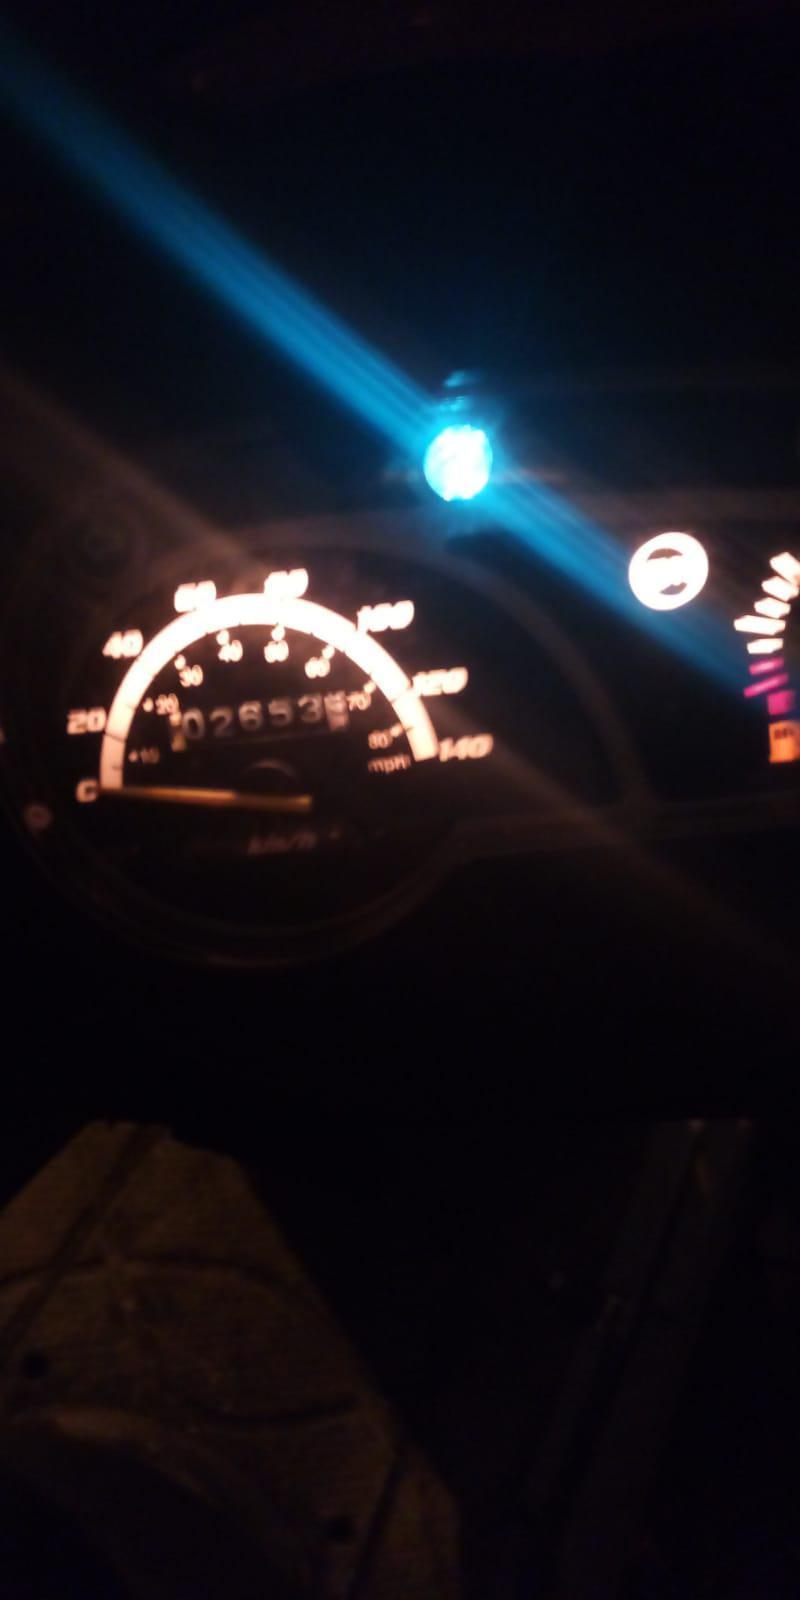0: (182, 708, 208, 741)
2: (208, 707, 234, 741)
3: (296, 693, 323, 724)
5: (267, 695, 296, 731), (327, 687, 350, 720)
6: (236, 700, 264, 735)
odometer: (173, 686, 356, 754)
